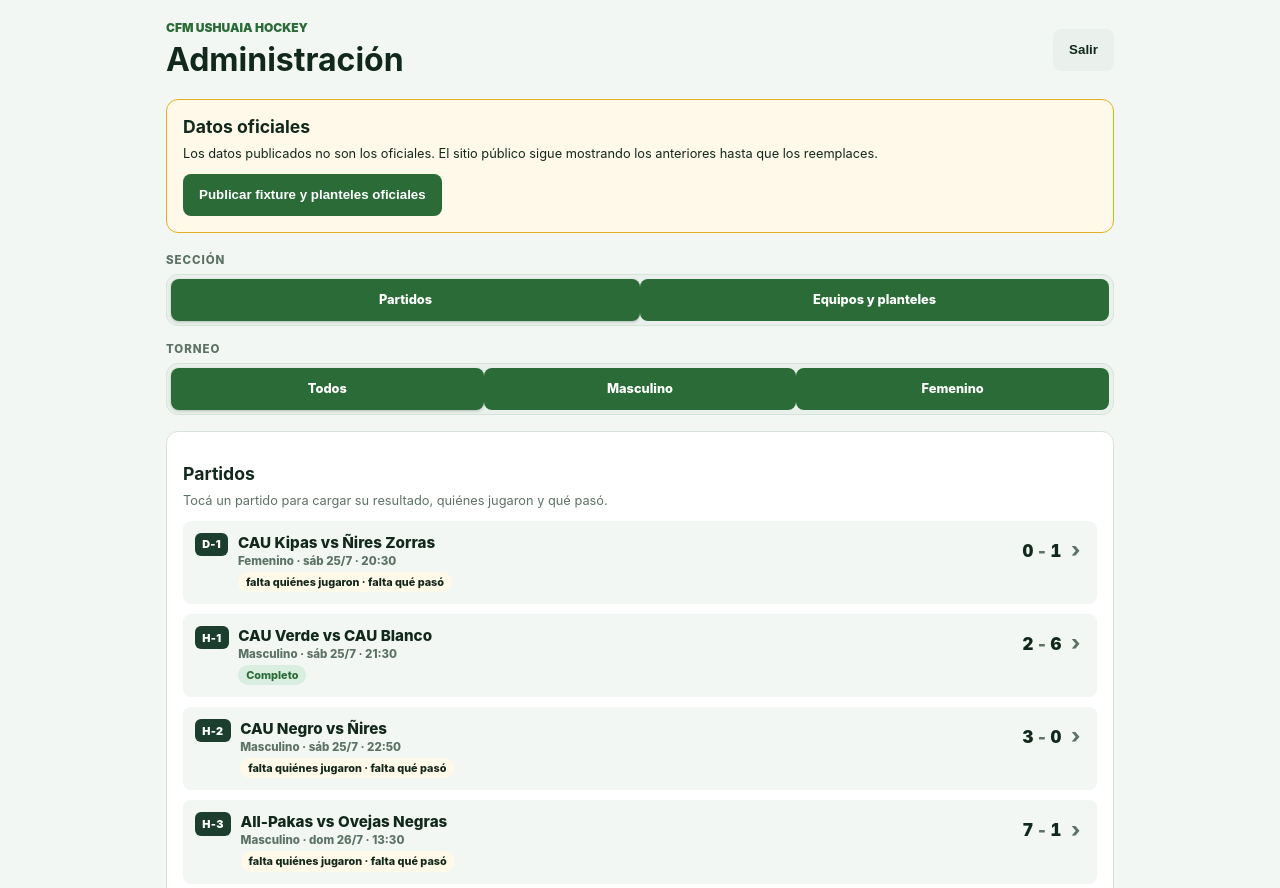
AdminApp › when an event was read wrong from the scoresheet › should open the editor on its own screen
Expected: the heading "Partidos" is shown, [183, 463, 255, 484]
What coordinates should you click on to do the following:
click the button that starts with "H-1"
I would click on:
 (212, 638)
Its box is [183, 614, 1097, 697].
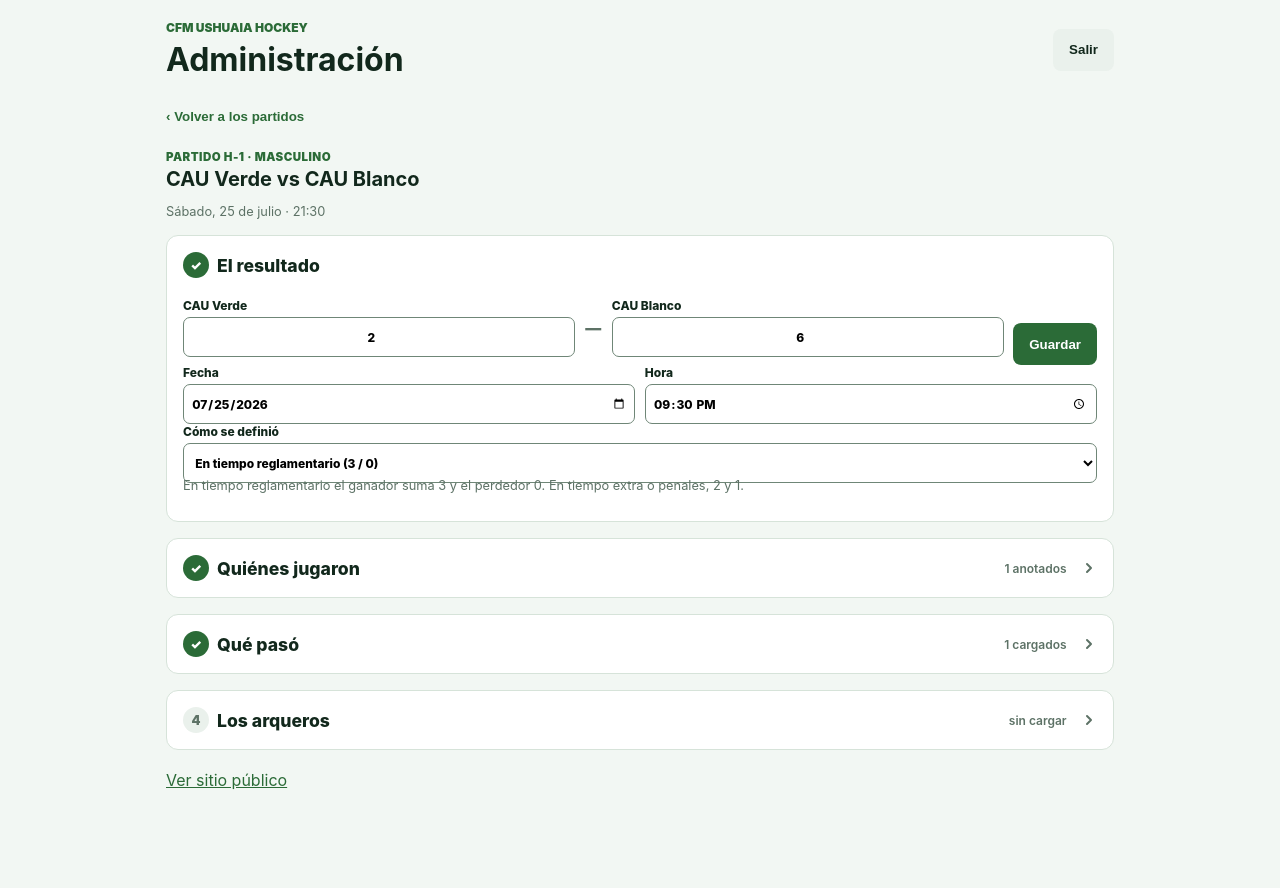
Expected: the heading "✓ Qué pasó 1 cargados" is shown
What coordinates should you click on to do the following:
click the button "✓ Qué pasó 1 cargados"
I would click on:
 (258, 644)
Its box is [183, 631, 1097, 657].
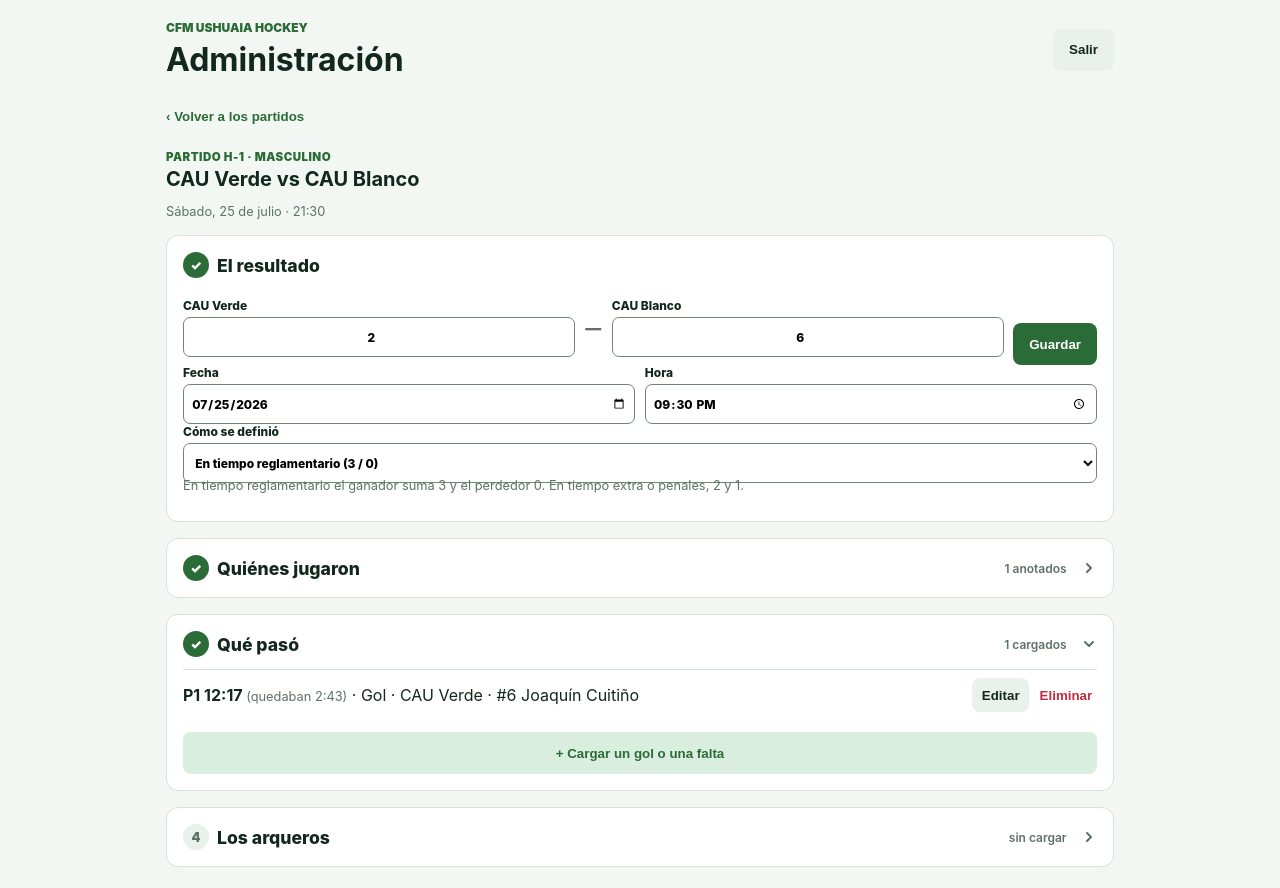
What coordinates should you click on to do the following:
click the button "Editar"
I would click on:
 (1001, 695)
Its box is [972, 678, 1029, 712].
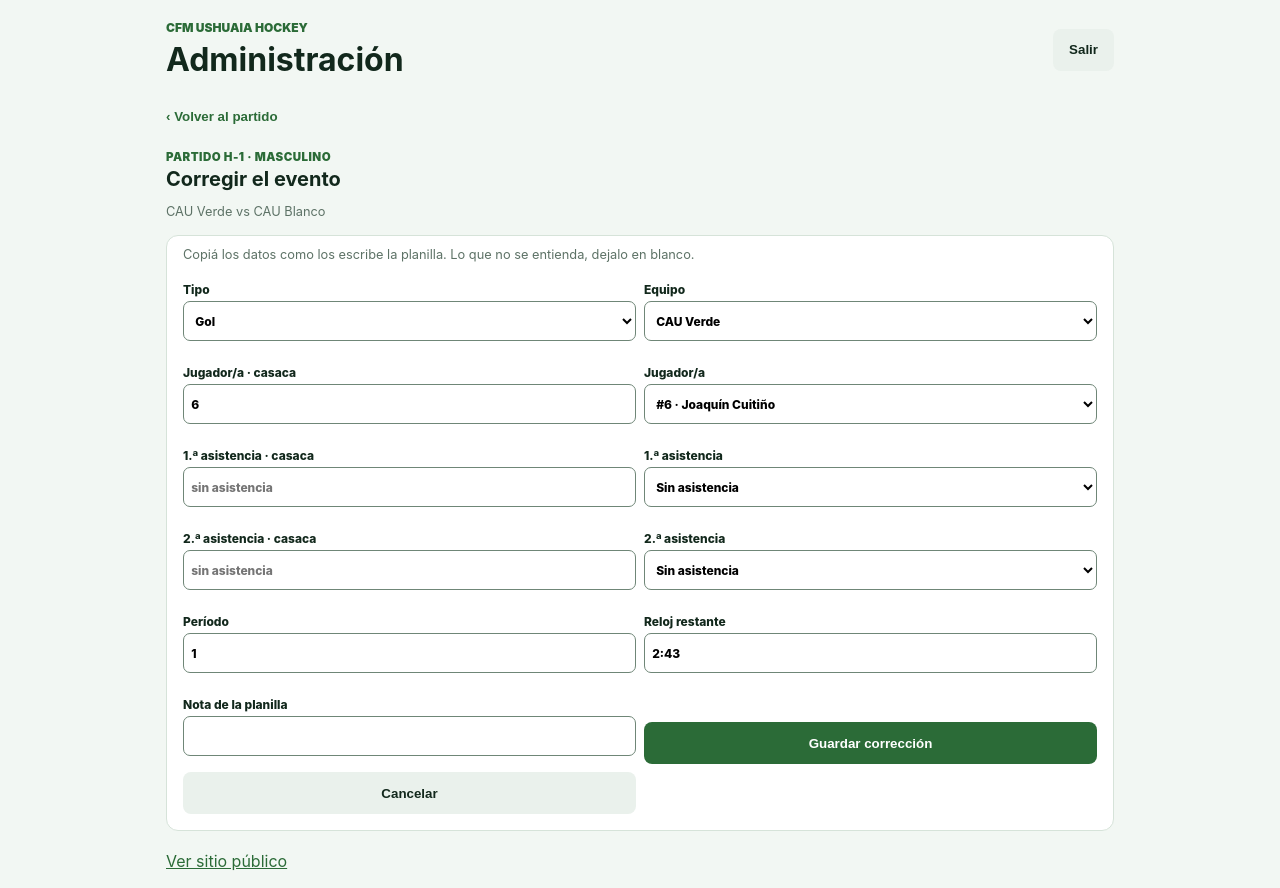
Expected: the heading "Corregir el evento" is shown, [166, 167, 341, 191]
Expected: the button "Qué pasó" is gone
Expected: the button "‹ Volver al partido" is shown, [166, 95, 278, 137]
